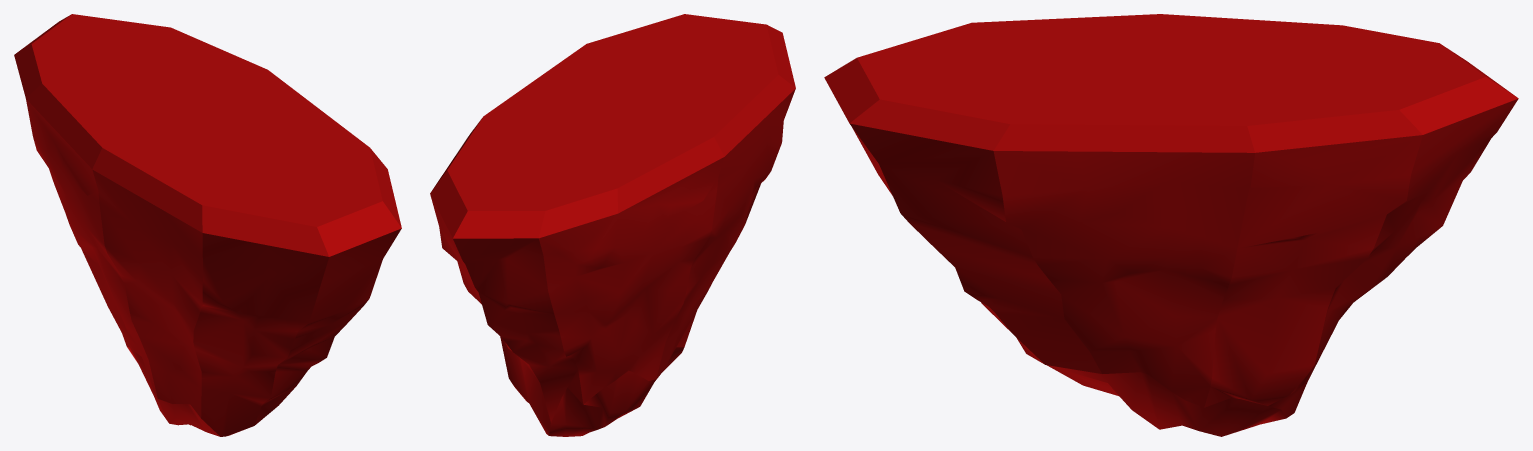
File: Jump_Map_Tiles_9.fbx
3 renders of one model, left to right at view 1: azimuth 30°, elevation 25°; view 2: azimuth 150°, elevation 25°; view 3: azimuth 270°, elevation 25°, orthographic. The views are drawn at different scales.
Visible parts, largest first — view 1: Jump_Map_Tiles_9; view 2: Jump_Map_Tiles_9; view 3: Jump_Map_Tiles_9.
Boxes of the visible parts, left/top/right/bottom form: Jump_Map_Tiles_9: left=14, top=14, right=401, bottom=436; Jump_Map_Tiles_9: left=430, top=14, right=795, bottom=436; Jump_Map_Tiles_9: left=824, top=14, right=1518, bottom=436.
Bounding box in the file's own units: 4 × 5.41 × 9.48.
